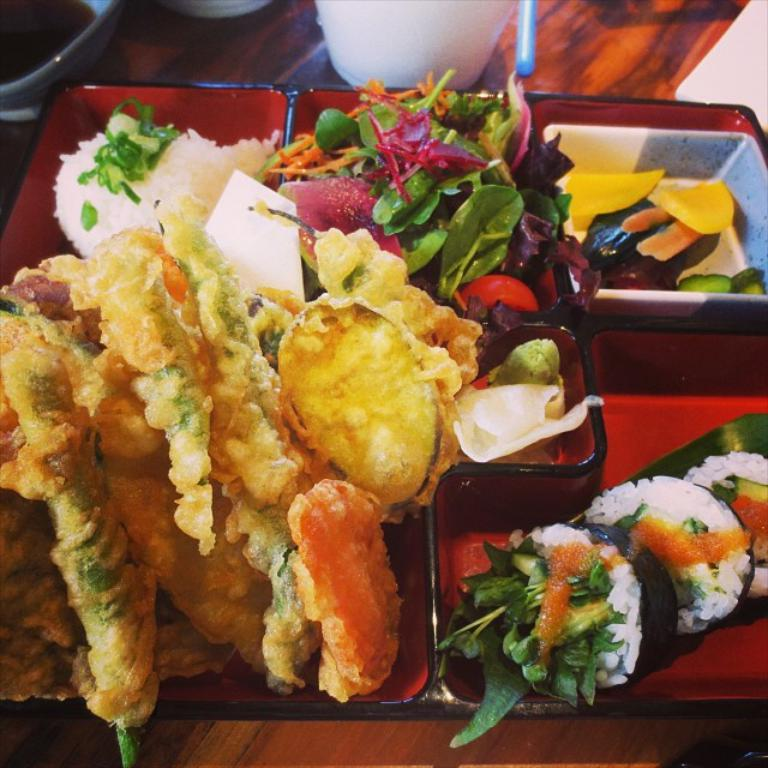sushi: (446, 524, 677, 737), (612, 481, 754, 656), (686, 452, 767, 595)
